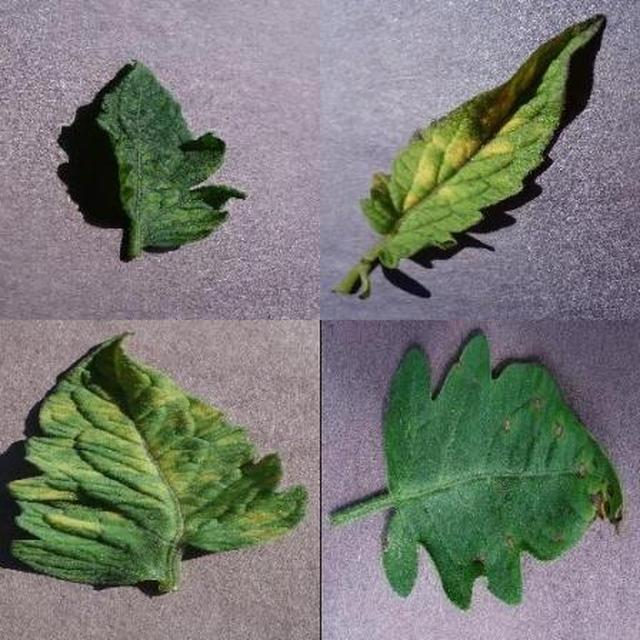Mosaic Virus Leaf: (217, 203, 640, 640)
